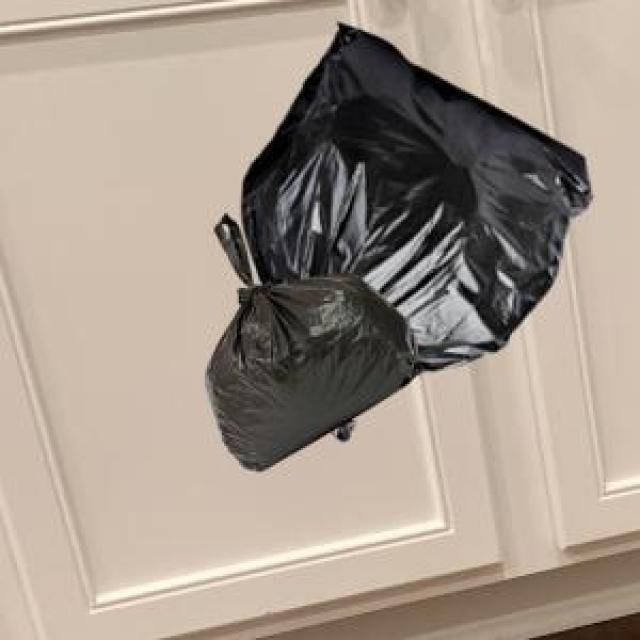waste: (206, 25, 591, 469)
